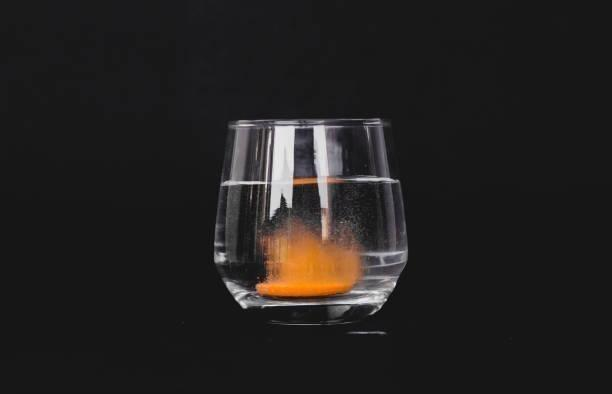glass-normal: (212, 114, 409, 329)
